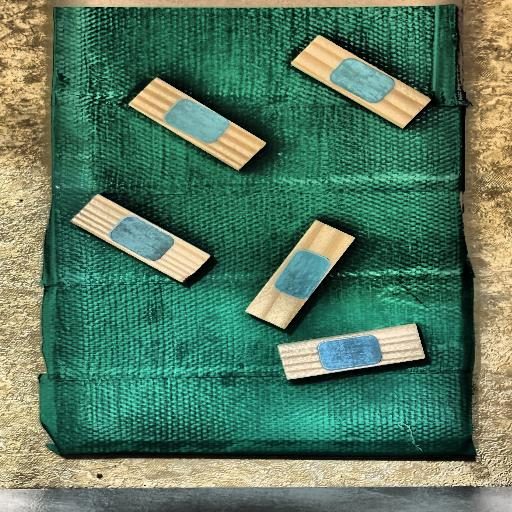objects: (291, 30, 432, 133), (130, 73, 267, 176), (245, 212, 356, 337), (71, 189, 211, 287), (277, 324, 425, 380)
